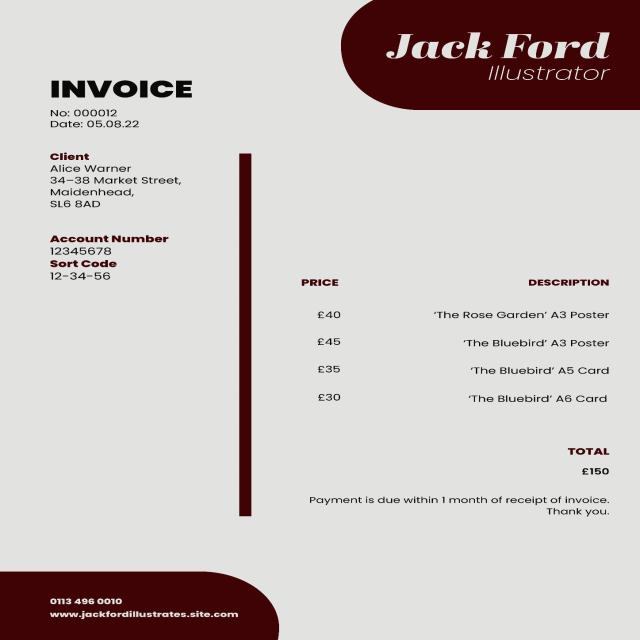paragraph: (278, 255, 619, 418), (374, 18, 624, 100), (295, 488, 623, 522), (30, 148, 198, 212), (40, 225, 187, 287), (34, 588, 249, 626), (36, 72, 210, 104), (538, 439, 624, 484), (36, 108, 153, 132)
